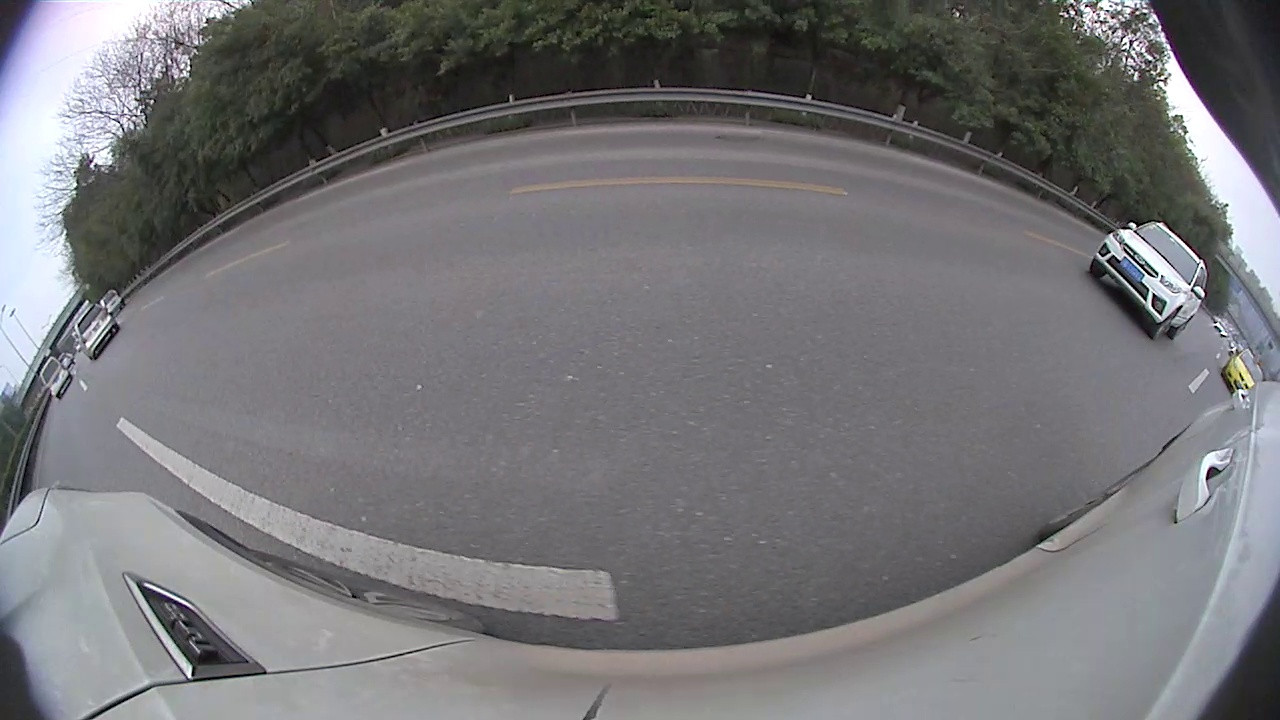car: (583, 104, 823, 264), (815, 127, 976, 254), (406, 149, 551, 234), (998, 211, 1143, 295), (1199, 328, 1279, 403), (549, 156, 592, 192), (971, 197, 1000, 241)
front: (1000, 226, 1028, 254)
rear: (836, 190, 870, 242), (1071, 260, 1103, 290), (503, 188, 519, 220)
